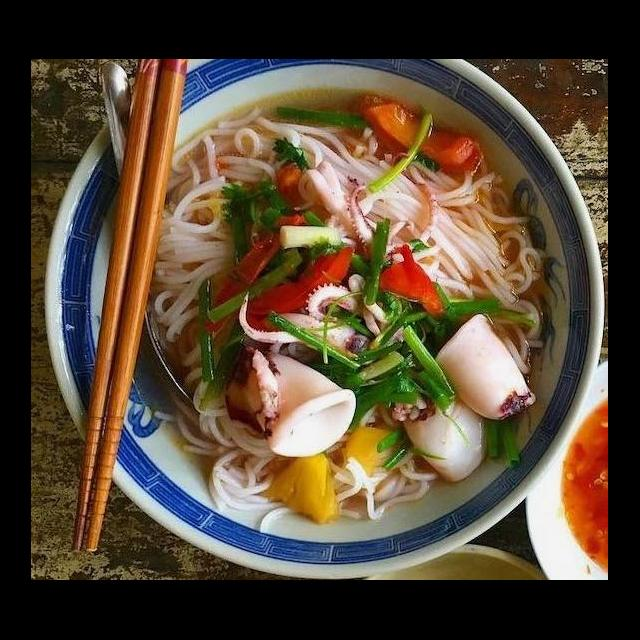bun: (297, 108, 554, 376), (152, 98, 304, 346), (147, 333, 300, 540), (319, 408, 442, 524)
muc: (296, 158, 442, 284), (218, 338, 358, 462), (234, 270, 412, 366), (432, 310, 540, 422), (389, 374, 492, 486)
